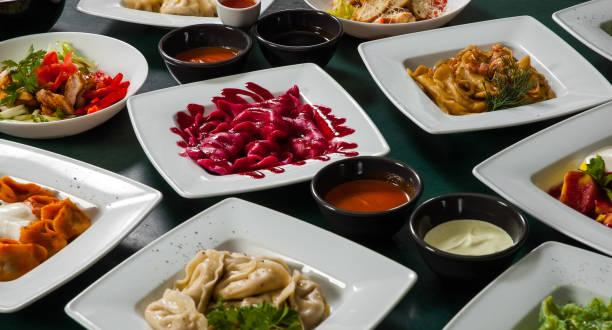Braised Crucian Carp: (64, 192, 423, 329), (127, 62, 386, 199), (361, 14, 607, 136), (2, 131, 163, 314), (1, 30, 147, 138)
